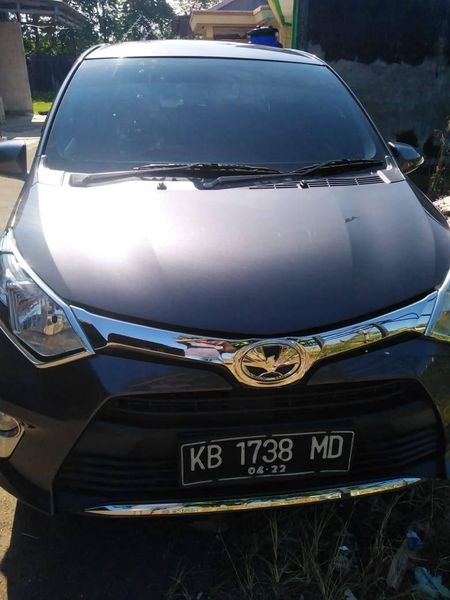plate: (165, 429, 370, 484)
